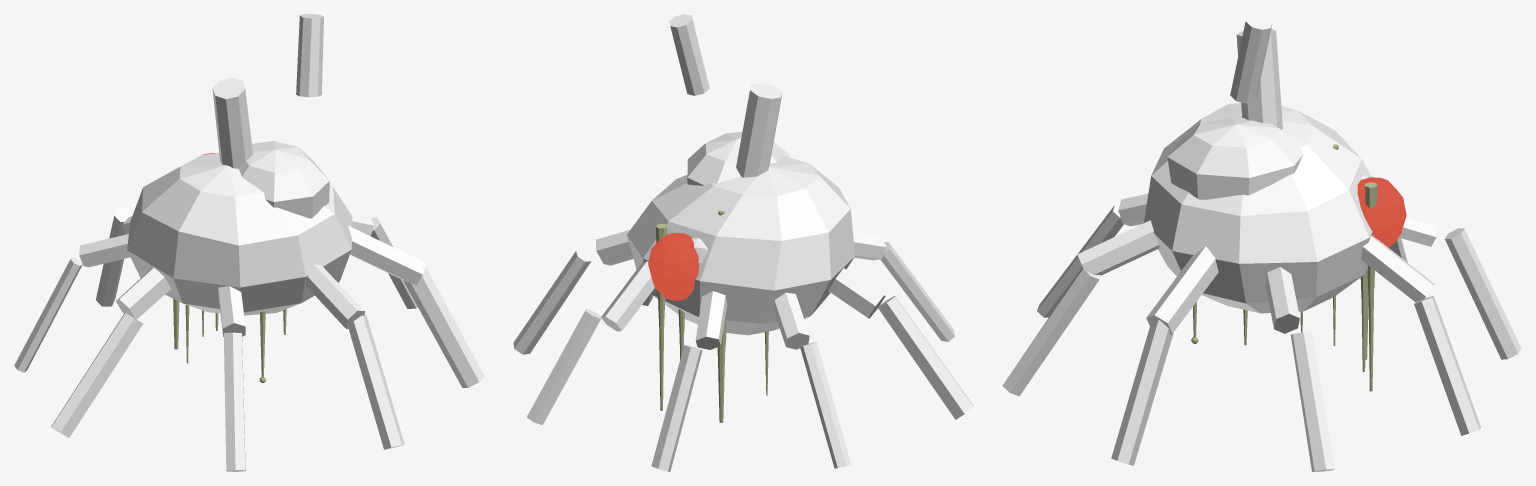
Rendered from milking_spider.glb.
3 renders of one model, left to right at view 1: azimuth 30°, elevation 25°; view 2: azimuth 150°, elevation 25°; view 3: azimuth 270°, elevation 25°, orthographic. The views are drawn at different scales.
Visible parts, largest first — view 1: Spider_Body, Spider_Hump, Spider_LegB_7, Spider_LegB_4, Spider_LegB_6, Spider_Pipe, Spider_LegB_5, Spider_Nozzle, Spider_LegA_7, Spider_LegB_3, Spider_LegA_6, Spider_LegA_4 (+4 smaller); view 2: Spider_Body, Spider_LegB_4, Spider_Pipe, Spider_Eye, Spider_LegB_2, Spider_Hump, Spider_LegB_0, Spider_LegB_1, Spider_LegB_3, Spider_LegB_5, Spider_Nozzle, Spider_LegA_1 (+6 smaller); view 3: Spider_Body, Spider_Hump, Spider_LegB_7, Spider_LegB_0, Spider_LegB_2, Spider_LegB_1, Spider_LegB_6, Spider_LegA_7, Spider_Nozzle, Spider_LegA_6, Spider_Eye, Spider_Pipe (+5 smaller).
Boxes of the visible parts, x1,y1,x2,y2 form: Spider_Body: (127,152,352,315); Spider_Hump: (239,141,329,218); Spider_LegB_7: (403,267,484,387); Spider_LegB_4: (51,313,143,437); Spider_LegB_6: (348,314,404,449); Spider_Pipe: (212,78,252,168); Spider_LegB_5: (223,332,245,471); Spider_Nozzle: (296,14,323,97); Spider_LegA_7: (348,225,426,285); Spider_LegB_3: (14,257,82,372); Spider_LegA_6: (305,264,365,328); Spider_LegA_4: (116,267,171,319); Spider_Body: (627,156,854,335); Spider_LegB_4: (878,295,973,419); Spider_Pipe: (736,82,782,177); Spider_Eye: (648,232,698,300); Spider_LegB_2: (651,345,702,471); Spider_Hump: (687,132,789,185); Spider_LegB_0: (513,250,591,354); Spider_LegB_1: (526,308,601,425); Spider_LegB_3: (800,342,851,468); Spider_LegB_5: (880,241,954,341); Spider_Nozzle: (669,14,709,95); Spider_LegA_1: (601,261,654,331); Spider_Body: (1144,103,1372,313); Spider_Hump: (1167,116,1302,199); Spider_LegB_7: (1111,319,1173,465); Spider_LegB_0: (1290,331,1334,471); Spider_LegB_2: (1445,228,1521,359); Spider_LegB_1: (1414,296,1481,435); Spider_LegB_6: (1002,268,1100,396); Spider_LegA_7: (1146,246,1218,334); Spider_Nozzle: (1230,14,1272,103); Spider_LegA_6: (1077,220,1159,275); Spider_Eye: (1357,177,1406,247); Spider_Pipe: (1236,29,1282,129).
Bounding box in the file's own units: 1.62 × 1.32 × 1.57.
